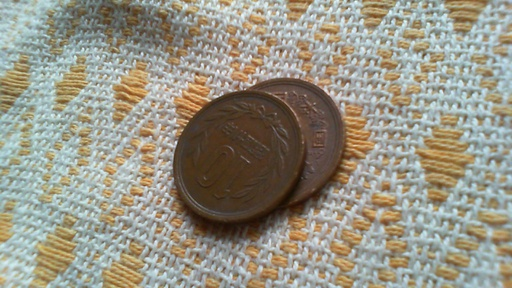10yen: (209, 77, 346, 211), (173, 90, 306, 225)
